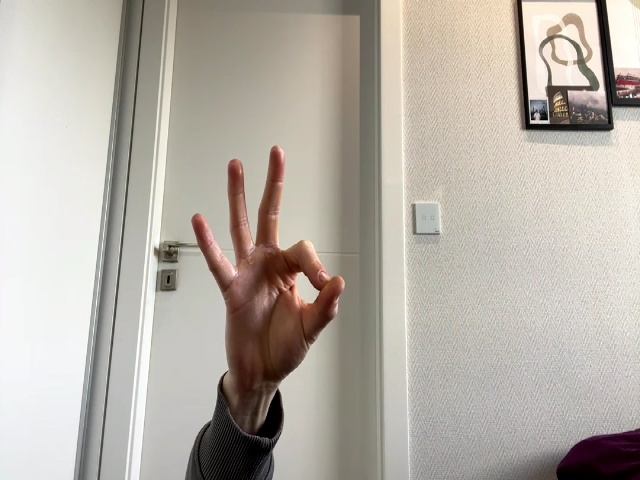O: (191, 145, 344, 373)
